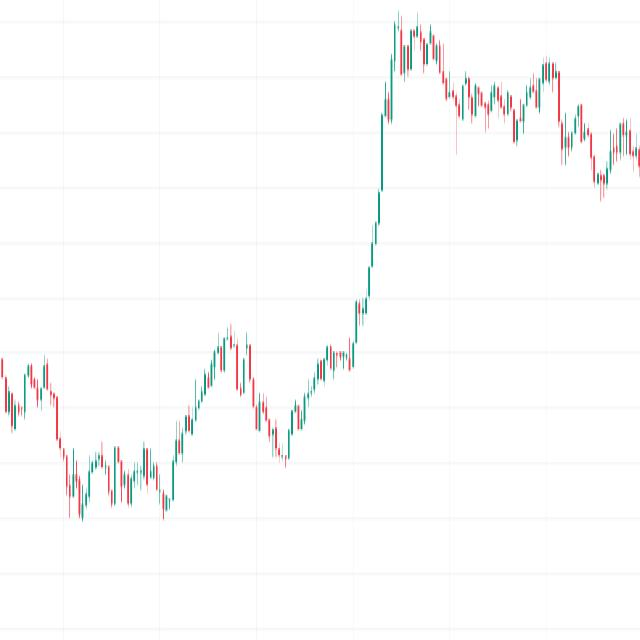Triple-Bottom: (52, 406, 188, 556)
Triple-Top: (389, 4, 448, 82)
